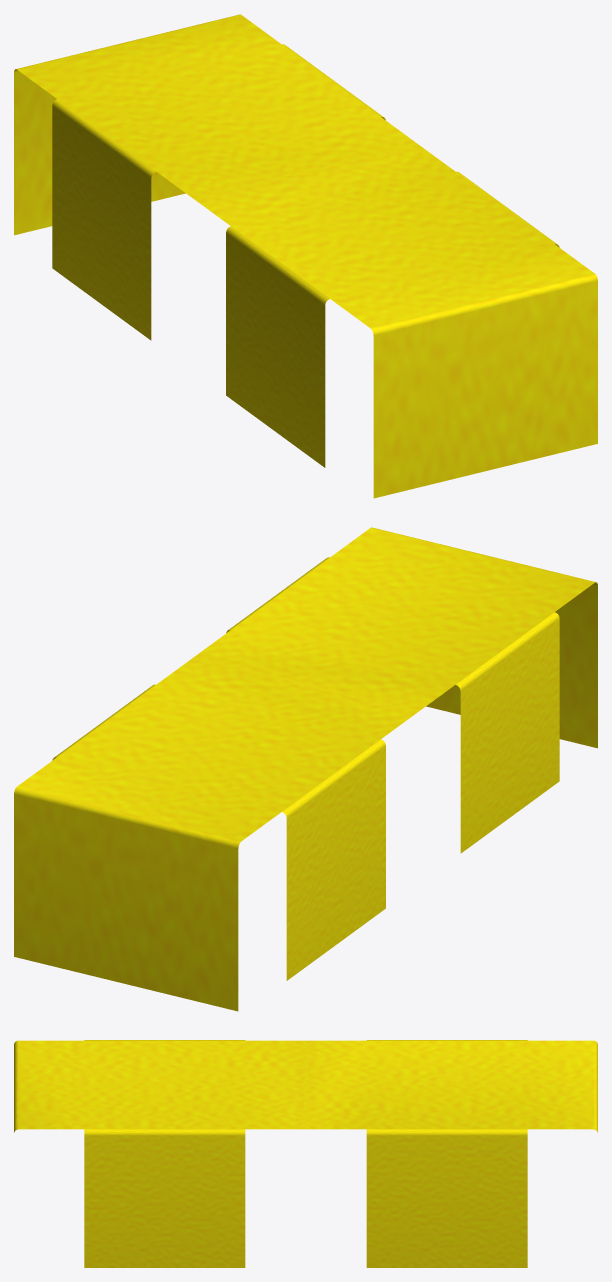
Rendered from p_mesh_cinematic_islandbridge_watersquare01.fbx.
The picture shows the model from 3 angles, top to bottom: view 1: azimuth 30°, elevation 25°; view 2: azimuth 150°, elevation 25°; view 3: azimuth 270°, elevation 25°; orthographic projection. The views are drawn at different scales.
Visible parts, largest first — view 1: Cube.002, Cube.001; view 2: Cube.002, Cube.001; view 3: Cube.002, Cube.001.
Part boxes in pixels (box(x1,y1,x2,y2)): Cube.002: box(14, 14, 597, 498); Cube.001: box(52, 44, 559, 467); Cube.002: box(14, 527, 597, 1011); Cube.001: box(52, 557, 559, 980); Cube.002: box(14, 1040, 597, 1132); Cube.001: box(84, 1040, 527, 1267).
Bounding box in the file's own units: 149 × 102 × 397.
Materials: 1 (1 with a texture image).
